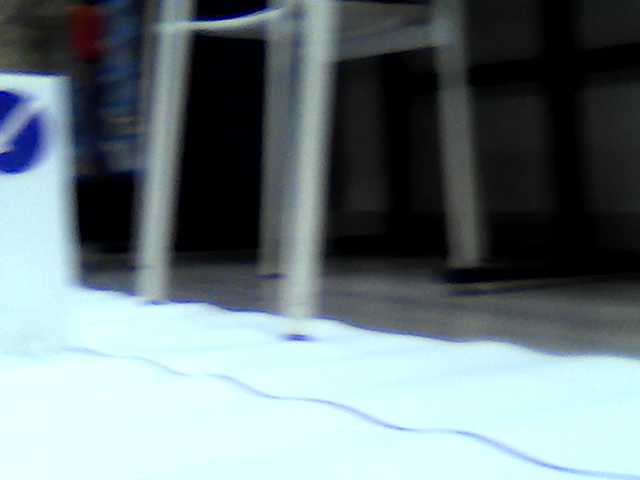prep: (1, 85, 44, 181)
